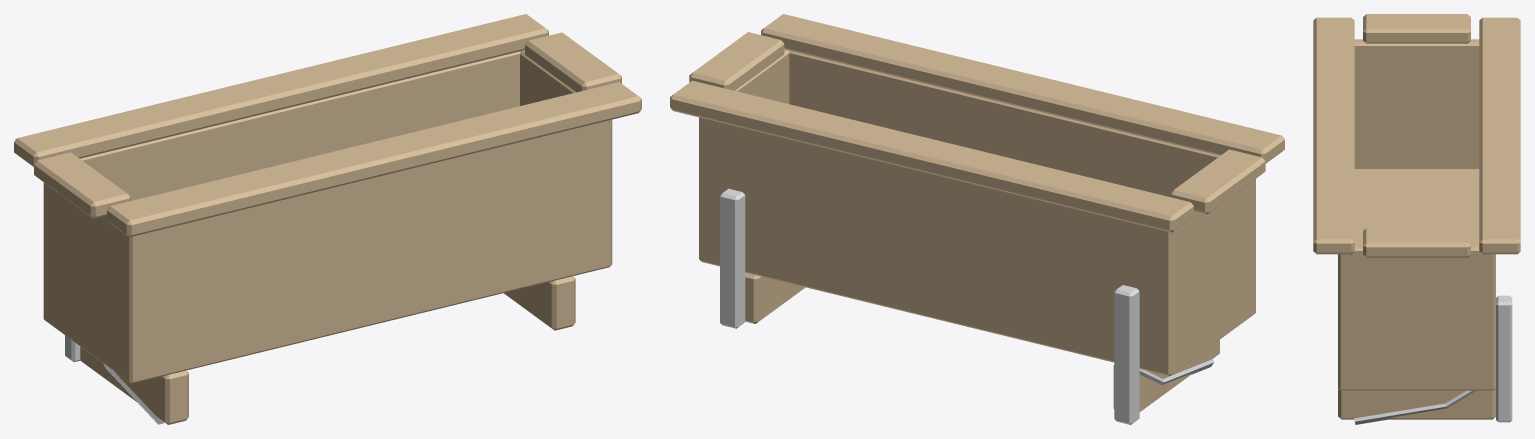
Rendered from garden-centre-and-florist-window-box-2698b272__17749.glb.
3 renders of one model, left to right at view 1: azimuth 30°, elevation 25°; view 2: azimuth 150°, elevation 25°; view 3: azimuth 270°, elevation 25°, orthographic. The views are drawn at different scales.
Visible parts, largest first — view 1: window-box; view 2: window-box; view 3: window-box.
Boxes of the visible parts, <box> form: window-box: <box>14,14,641,424</box>; window-box: <box>670,14,1284,424</box>; window-box: <box>1313,14,1520,424</box>.
Size of the model in its own units: 0.66 by 0.276 by 0.25.
